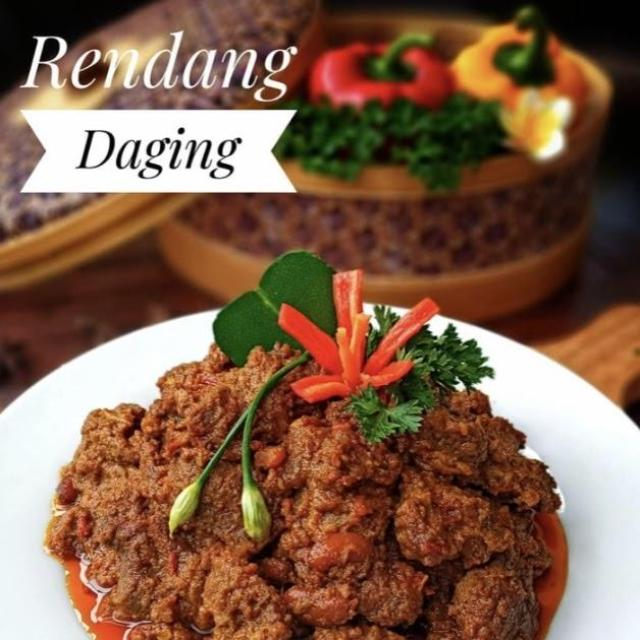Rendang: (55, 348, 582, 640)
